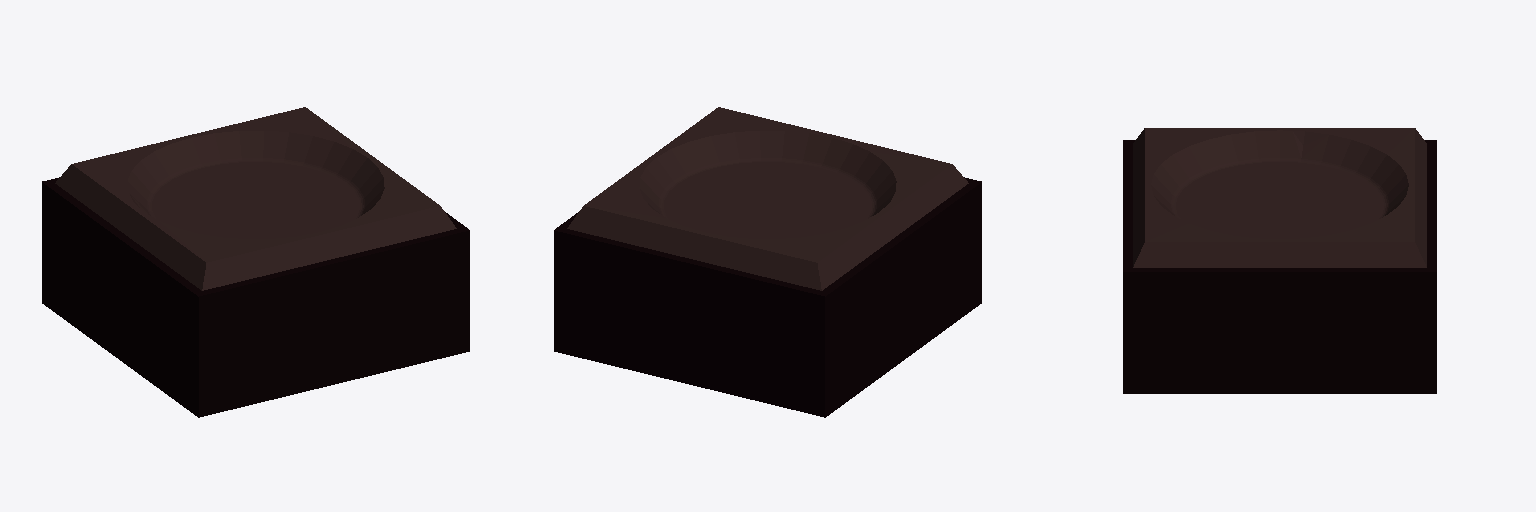
Rendered from estacionP.obj.
3 views of the same model, side by side, from view 1: azimuth 30°, elevation 25°; view 2: azimuth 150°, elevation 25°; view 3: azimuth 270°, elevation 25° (orthographic).
Parts seen in each view (by area): view 1: Cube; view 2: Cube; view 3: Cube.
Part boxes in pixels (x1,y1,x2,y2): Cube: (42,107,469,417); Cube: (554,107,981,417); Cube: (1123,128,1436,393).
Bounding box in the file's own units: 2 × 1 × 2.